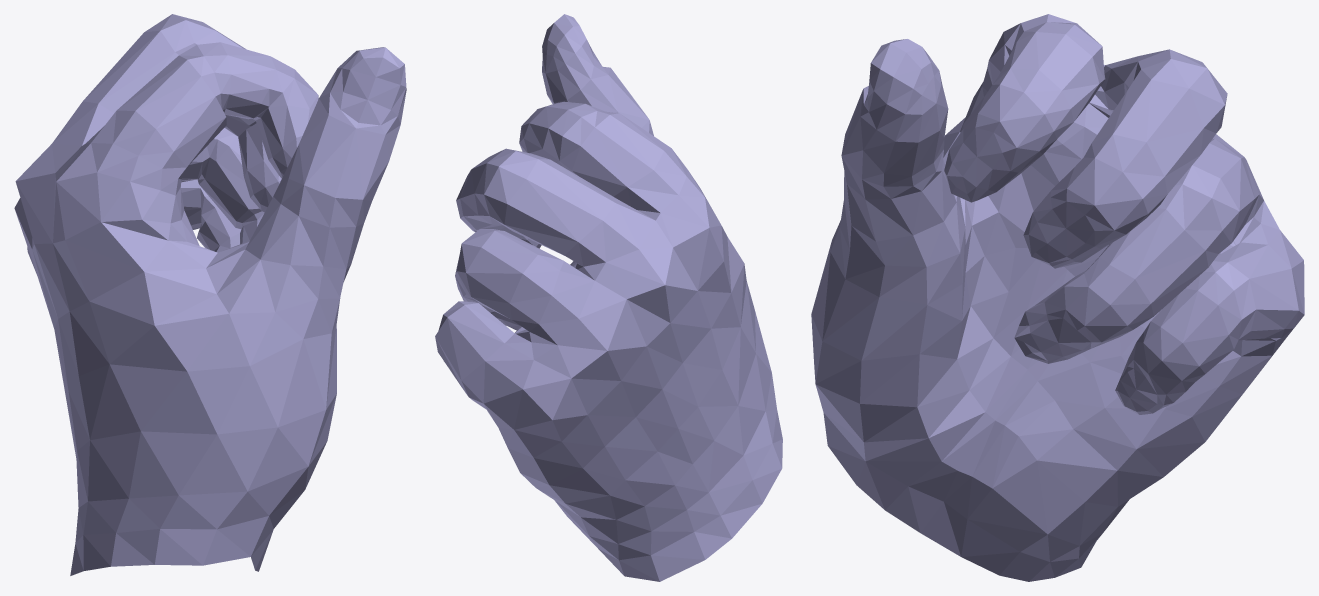
The model's file is frame_0003_source_000003_hand.glb.
3 views of the same model, side by side, from view 1: azimuth 30°, elevation 25°; view 2: azimuth 150°, elevation 25°; view 3: azimuth 270°, elevation 25° (orthographic). The views are drawn at different scales.
Parts seen in each view (by area): view 1: world; view 2: world; view 3: world.
Boxes of the visible parts, bbox=[...] form: world: bbox=[14, 14, 406, 575]; world: bbox=[435, 14, 782, 581]; world: bbox=[811, 14, 1304, 581].
Bounding box in the file's own units: 0.0666 × 0.1237 × 0.0909.
